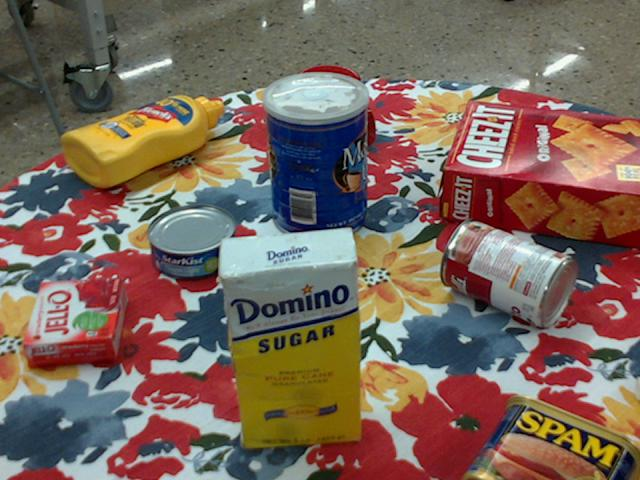cracker_box: (440, 100, 639, 249)
gelatin_box: (24, 280, 128, 371)
large_marker: (637, 375, 639, 397)
master_chef_can: (263, 72, 369, 242)
mug: (289, 65, 374, 158)
mustard_bottle: (60, 95, 223, 187)
potted_meat_can: (463, 393, 639, 479)
sugar_box: (215, 226, 362, 451)
tomato_soup_can: (442, 219, 579, 326)
tuna_fish_can: (145, 205, 236, 280)
